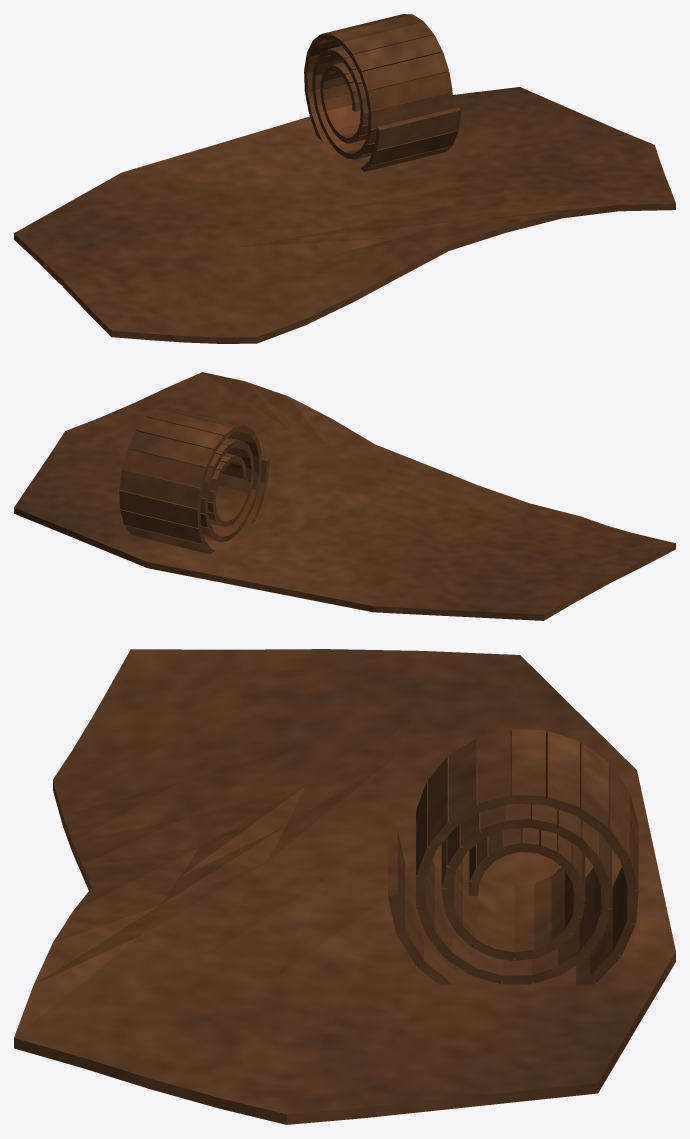
Rendered from couro.glb.
3 renders of one model, top to bottom at view 1: azimuth 30°, elevation 25°; view 2: azimuth 150°, elevation 25°; view 3: azimuth 270°, elevation 25°, orthographic. The views are drawn at different scales.
Visible parts, largest first — view 1: couro_couro; view 2: couro_couro; view 3: couro_couro.
Boxes of the visible parts, bbox=[...] form: couro_couro: bbox=[14, 14, 675, 343]; couro_couro: bbox=[14, 372, 675, 620]; couro_couro: bbox=[14, 649, 675, 1124].
Size of the model in its own units: 0.29 by 0.0686 by 0.17.
Materials: 1 (1 with a texture image).
